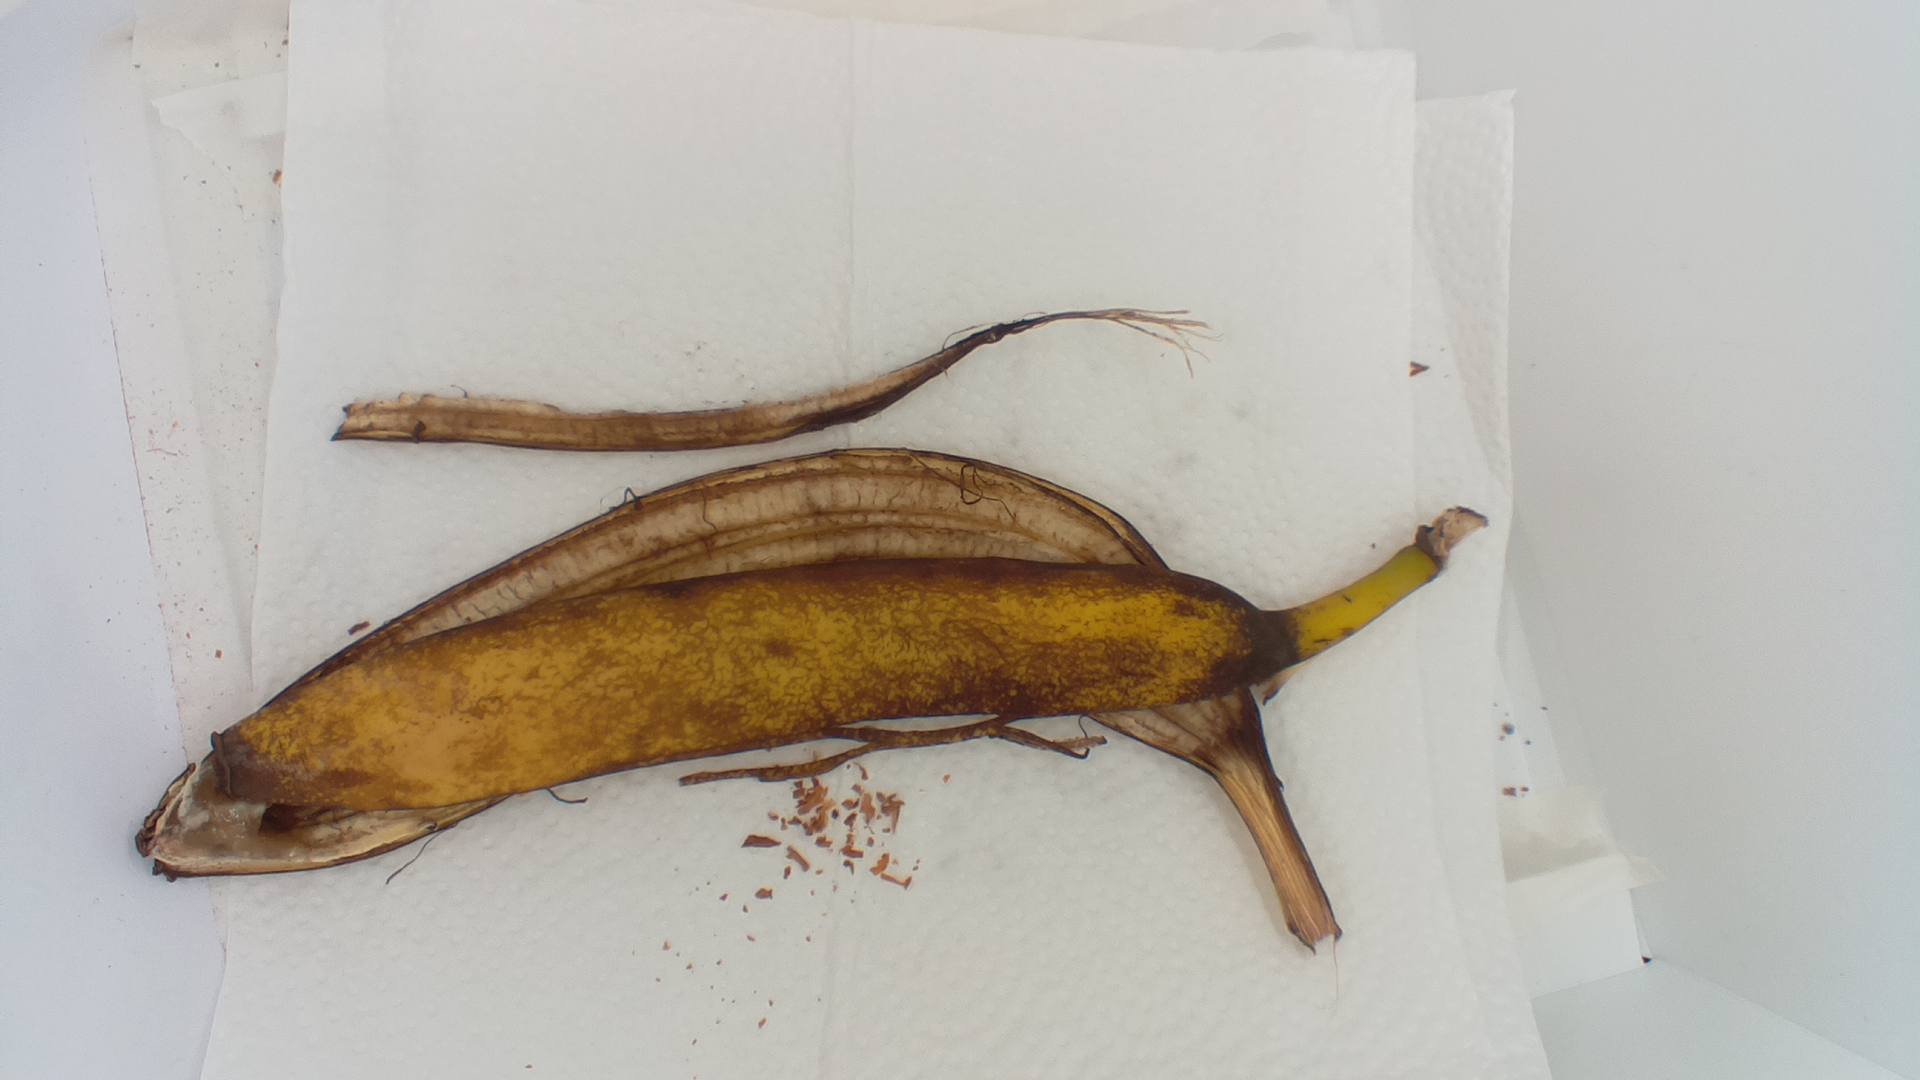fruit: (131, 305, 1501, 972)
